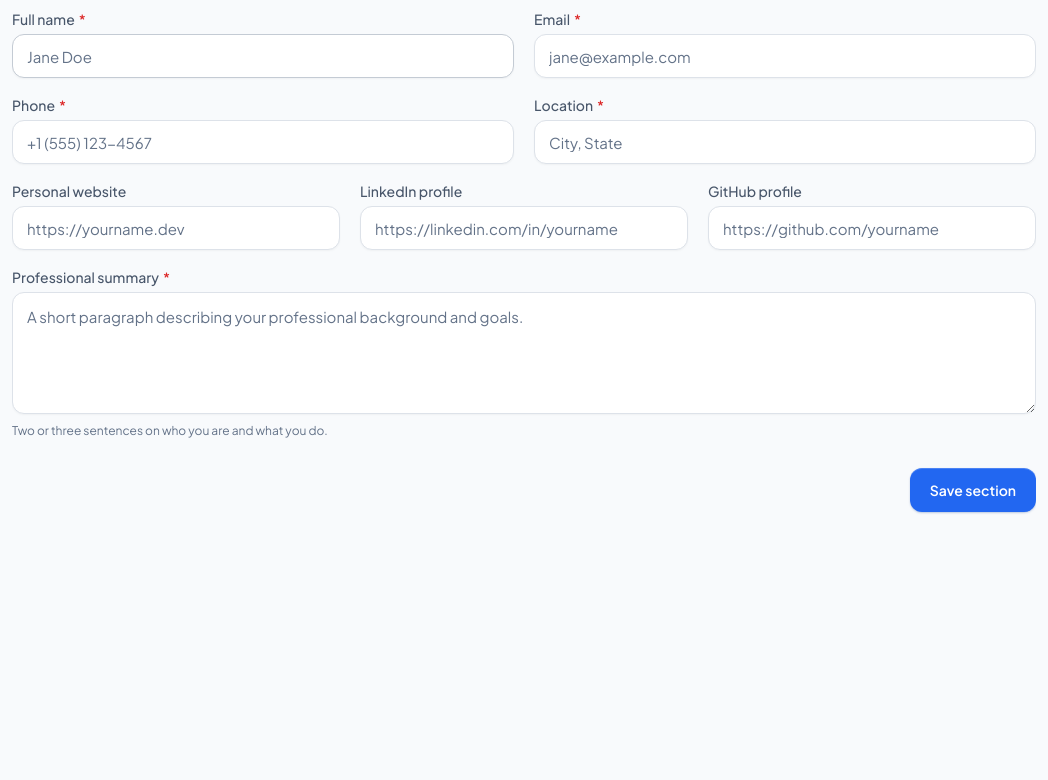
Scenario: basic information › names the fields that are wrong rather than only warning
Click the button "Save section".
click(973, 490)  # box [910,468,1036,512]
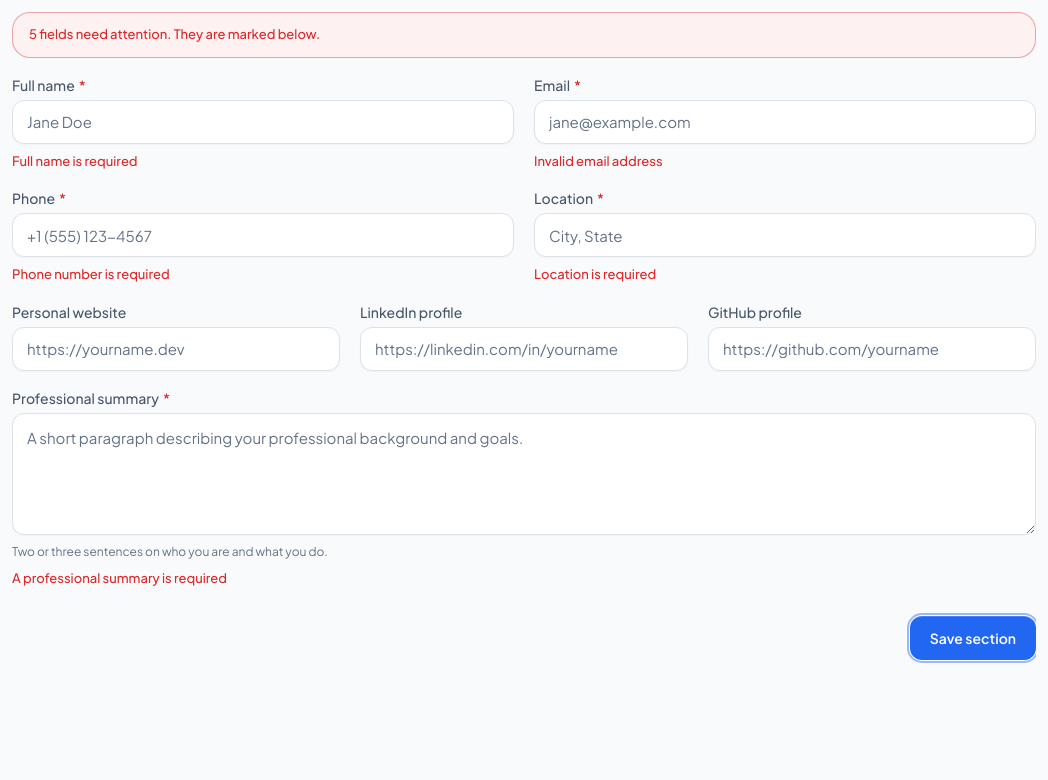
Check: the text "5 fields need attention. They are marked below." is shown, box [12,12,1036,58]
